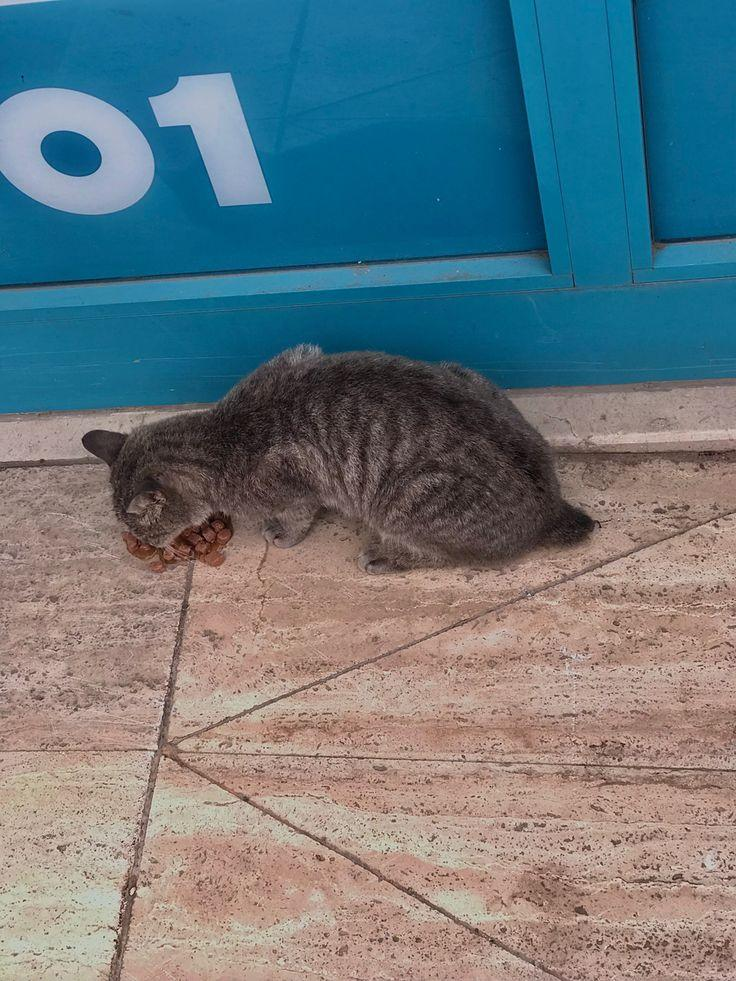kedo: (80, 328, 605, 588)
